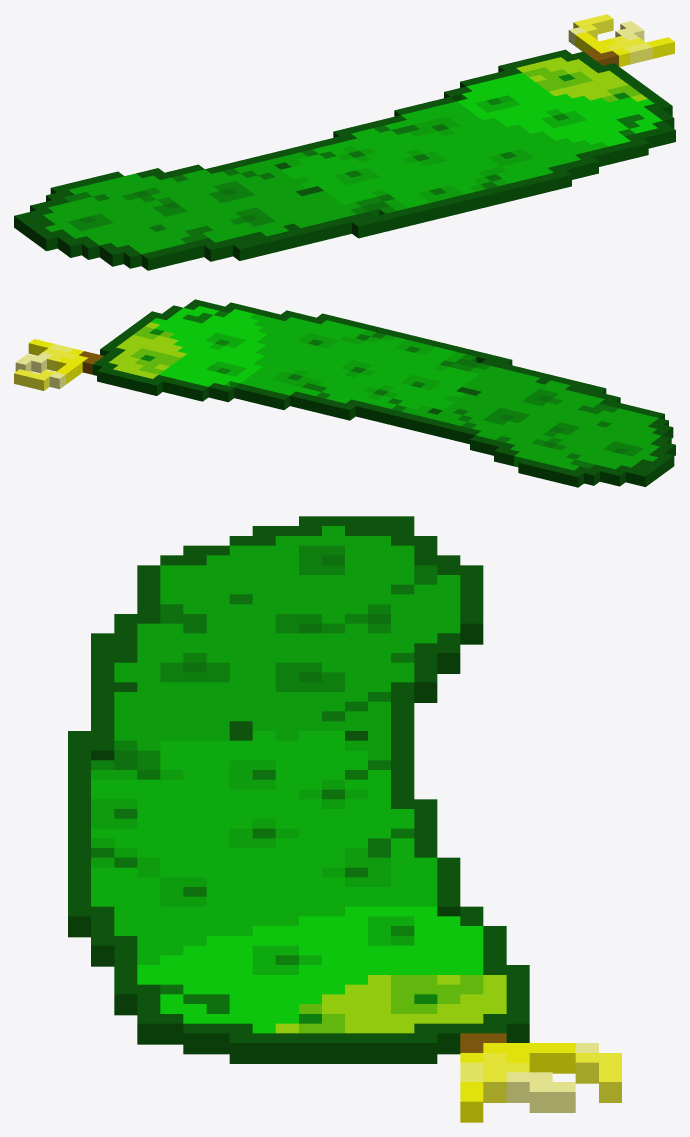
The model's file is jalko ogyrtsa.obj.
3 views of the same model, one above another, from view 1: azimuth 30°, elevation 25°; view 2: azimuth 150°, elevation 25°; view 3: azimuth 270°, elevation 25° (orthographic). The views are drawn at different scales.
Visible parts, largest first — view 1: jalko ogyrtsa; view 2: jalko ogyrtsa; view 3: jalko ogyrtsa.
Part boxes in pixels (x1,y1,x2,y2): jalko ogyrtsa: [14, 14, 675, 270]; jalko ogyrtsa: [14, 299, 675, 487]; jalko ogyrtsa: [68, 516, 621, 1122].
Size of the model in its own units: 60 by 1 by 24.
Materials: 1 (1 with a texture image).
